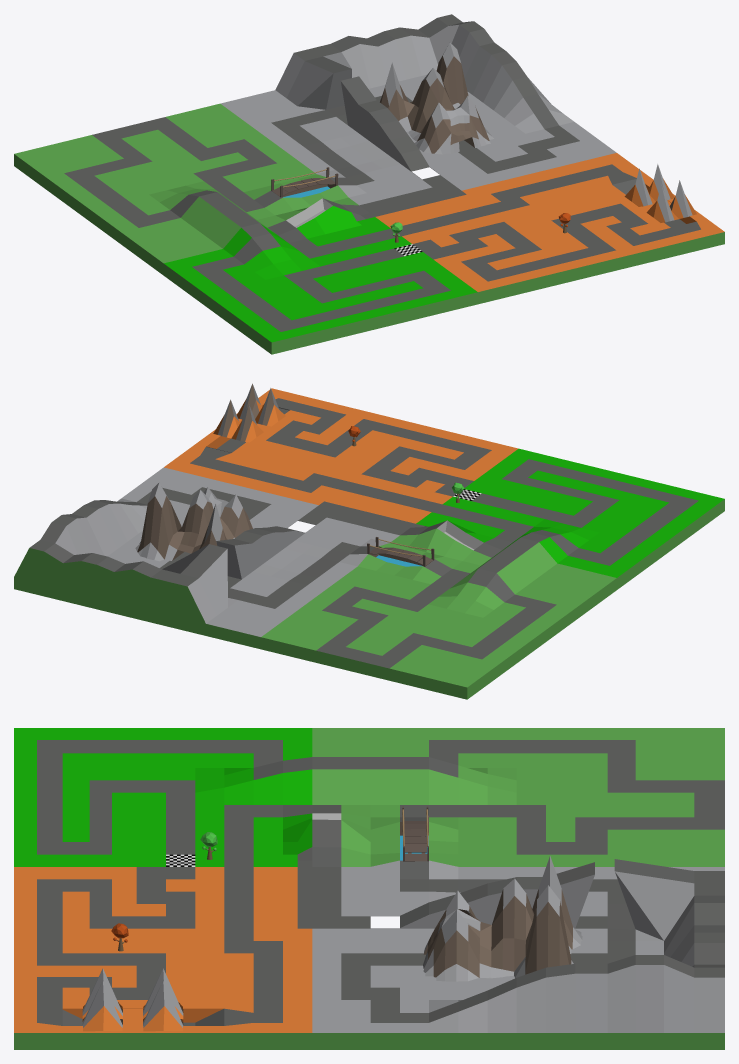
File: sceneCourseV0.9.fbx
3 renders of one model, top to bottom at view 1: azimuth 30°, elevation 25°; view 2: azimuth 150°, elevation 25°; view 3: azimuth 270°, elevation 25°, orthographic. The views are drawn at different scales.
Parts seen in each view (by area): view 1: Plane, Mountain, Plane.001; view 2: Plane, Mountain, Plane.001; view 3: Plane, Mountain, Plane.001.
Part boxes in pixels (x1=…): Plane: x1=14, y1=14, x2=724, y2=354; Mountain: x1=380, y1=42, x2=493, y2=154; Plane.001: x1=624, y1=164, x2=696, y2=222; Plane: x1=14, y1=388, x2=724, y2=699; Mountain: x1=135, y1=482, x2=252, y2=561; Plane.001: x1=213, y1=383, x2=285, y2=442; Plane: x1=14, y1=728, x2=724, y2=1049; Mountain: x1=423, y1=856, x2=582, y2=981; Plane.001: x1=82, y1=968, x2=183, y2=1031.
Size of the model in its own units: 14586 by 2675 by 14363.
